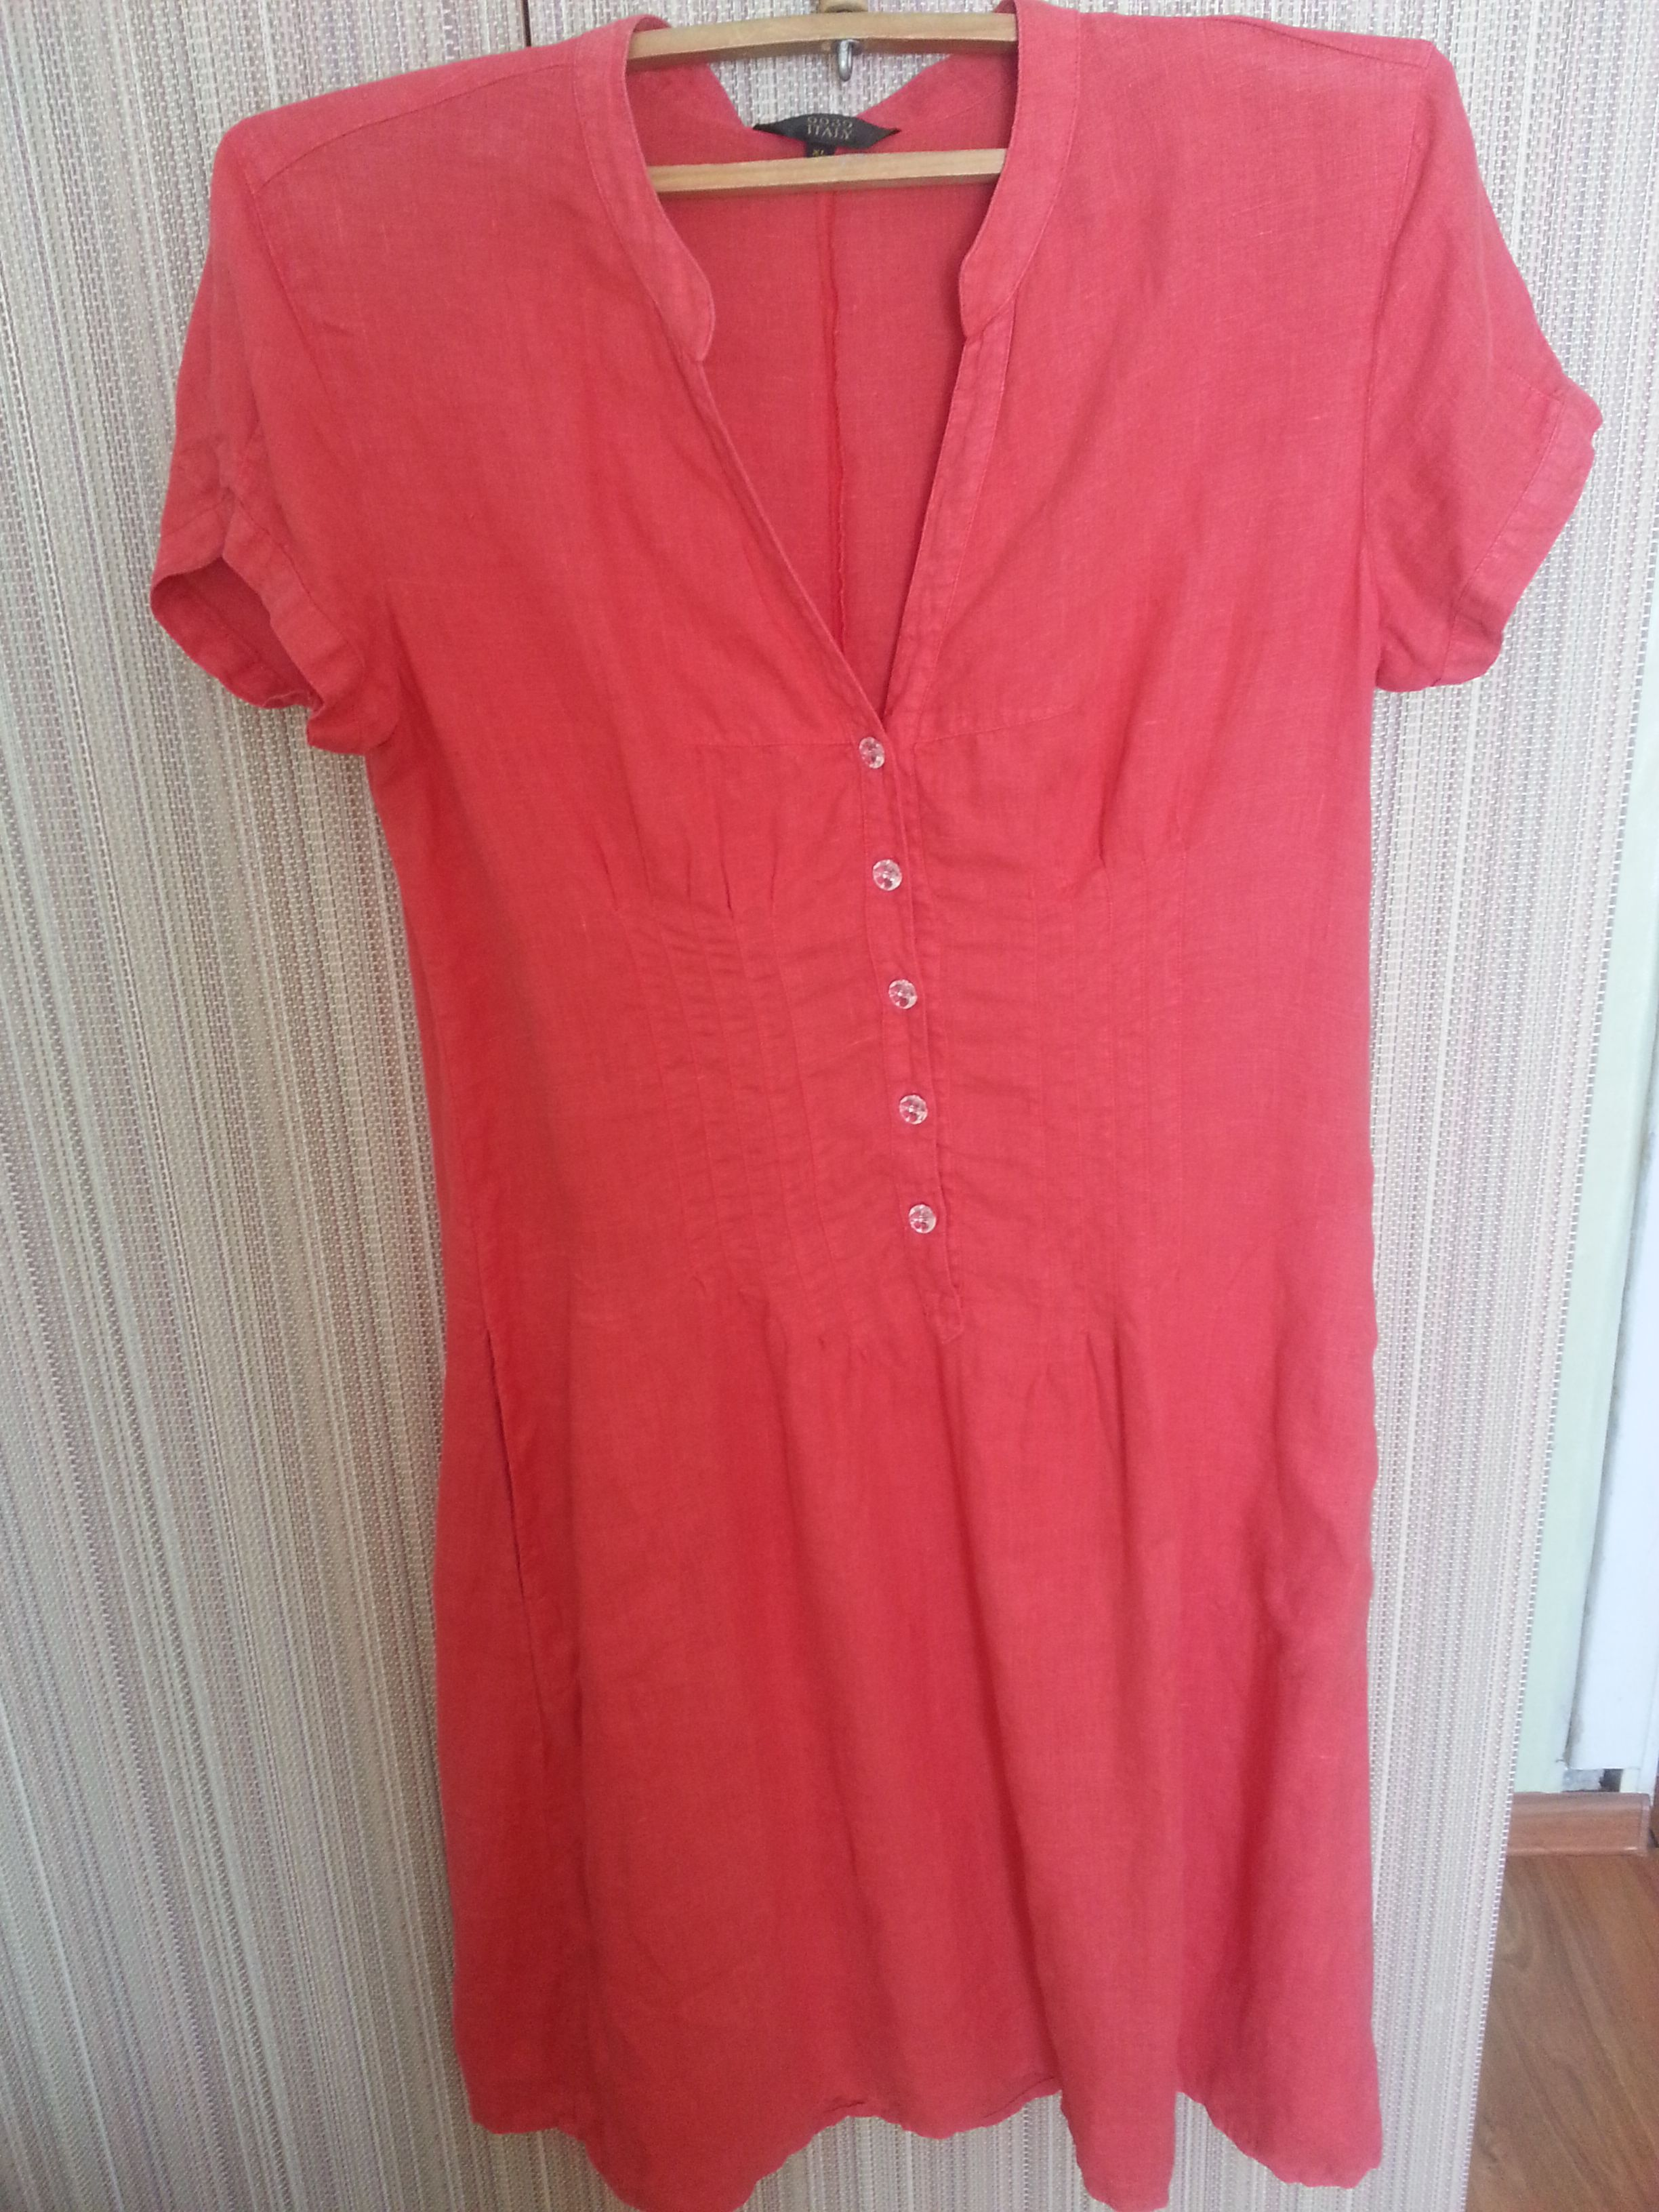clothes: (131, 12, 1615, 2175)
